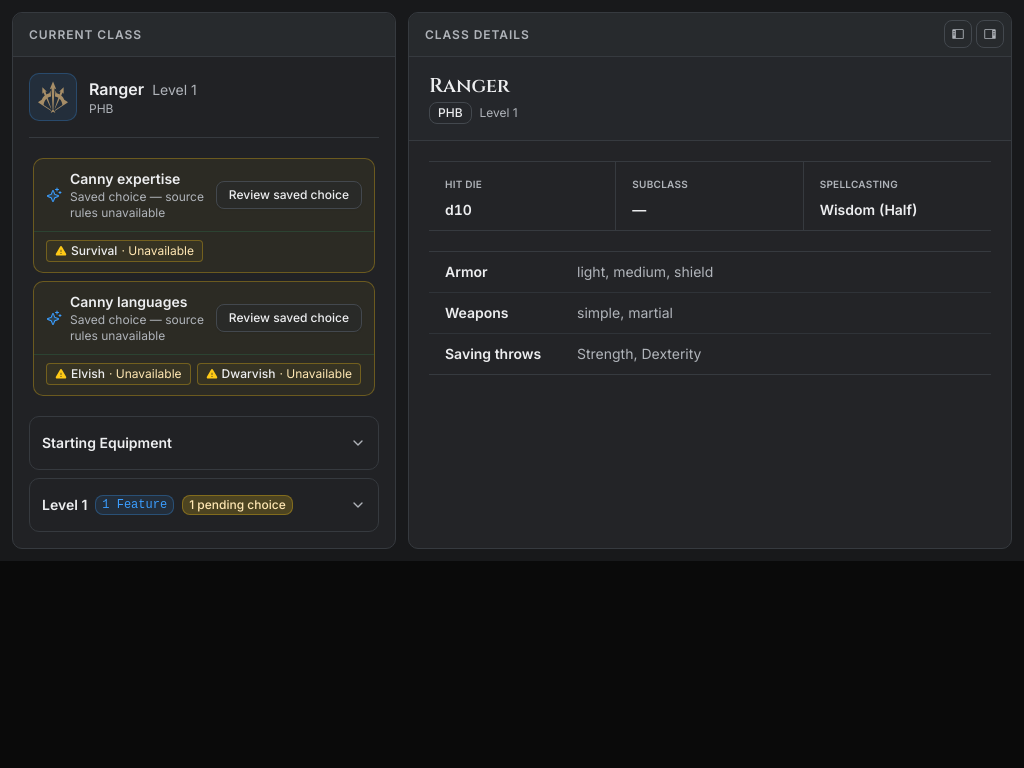
saved source-unavailable choices retain removal-only recovery and Clear retracts only its own domain
This screenshot has width=1024, height=768.
Step 1. Click the button "Level 1 1 Feature 1 pending choice" → coordinates (204, 505), box [30,479,378,531]
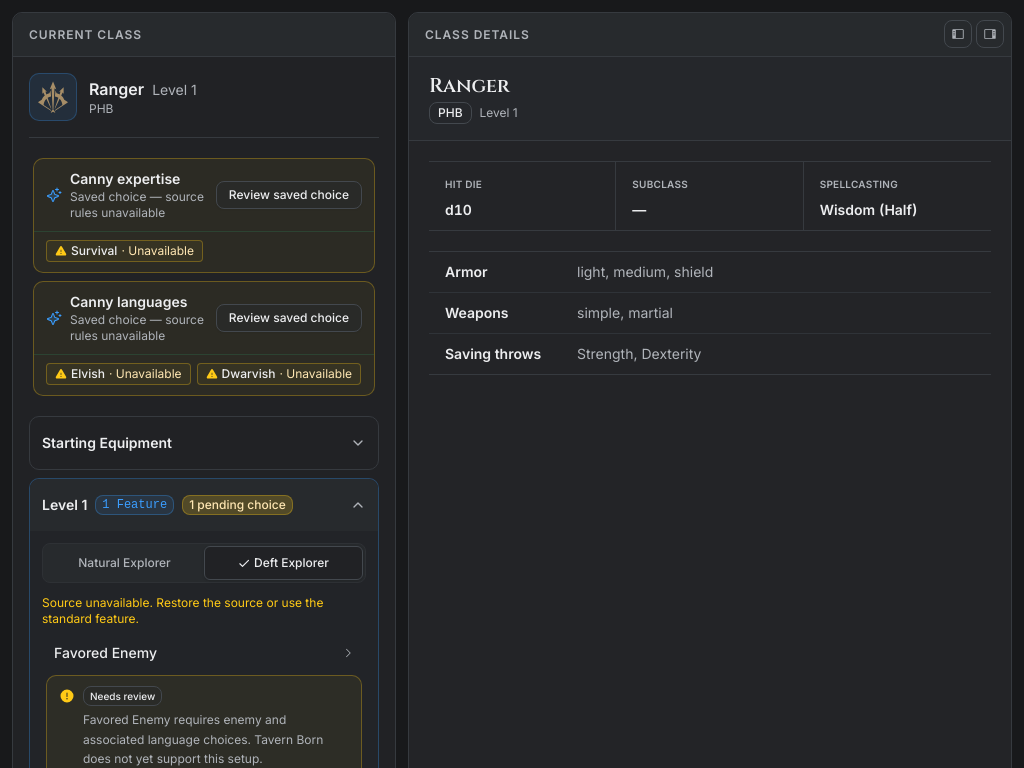
Step 2. Click the 1st button "Review saved choice" → coordinates (289, 195), box [216,181,362,209]
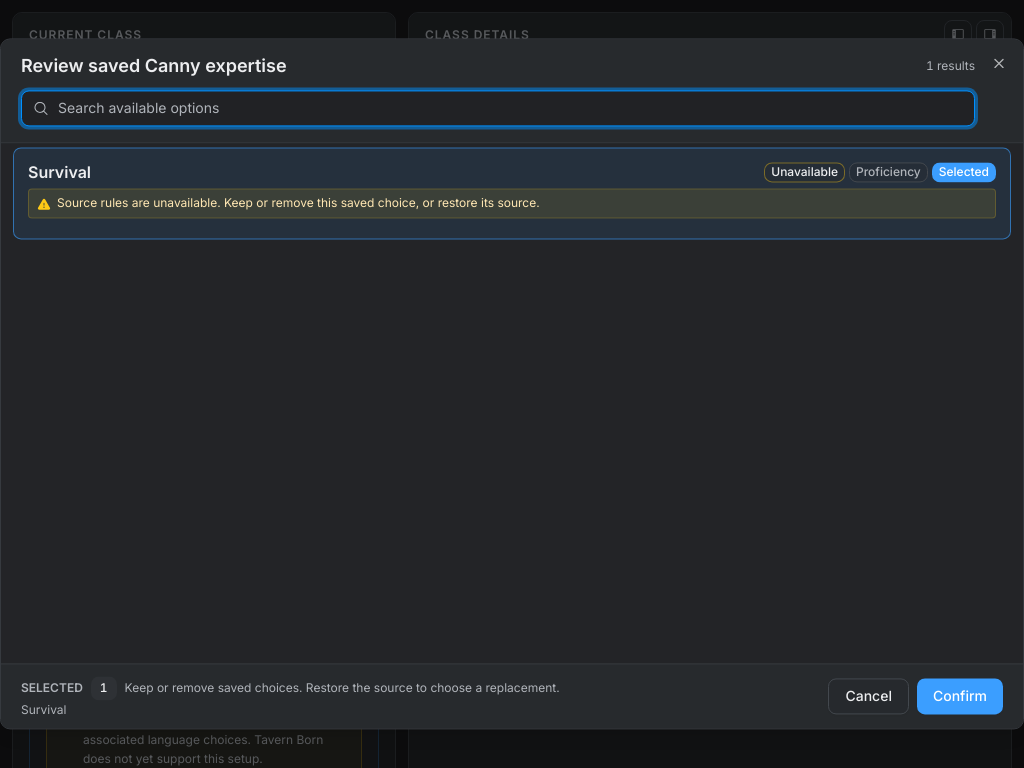
Result: the dialog is shown
Step 3. Type "Survival" into the field with placeholder "Search available options" → coordinates (498, 108), box [21,90,975,126]
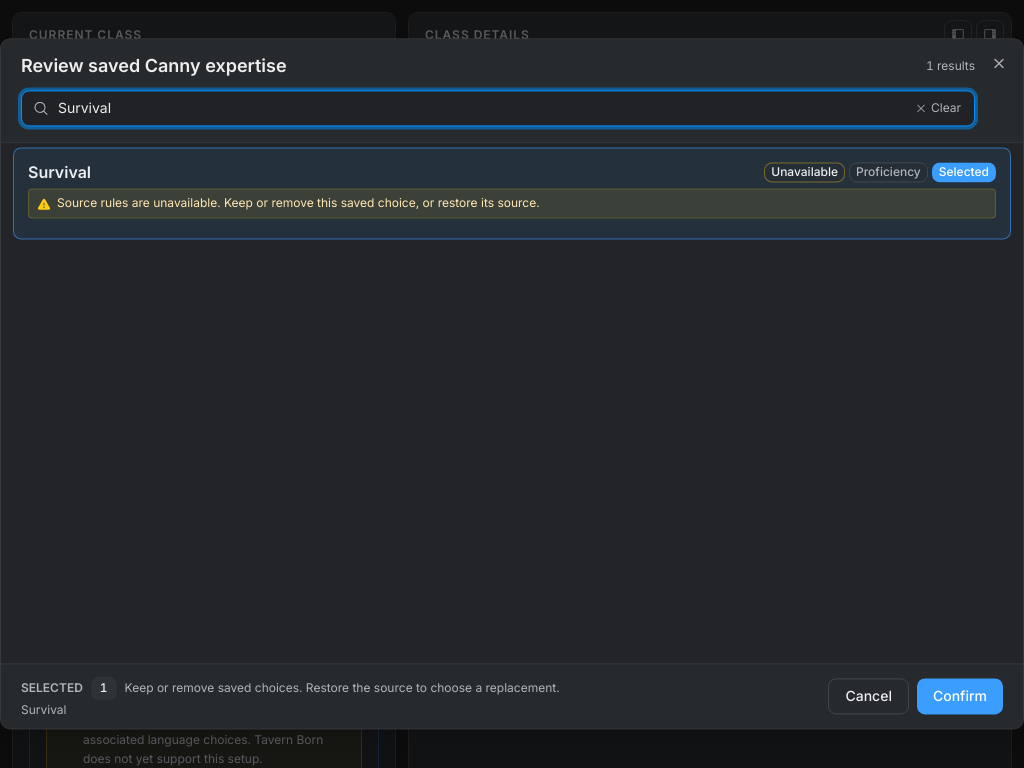
Step 4. Click the button that starts with "Survival" → coordinates (512, 193), box [13,147,1011,239]
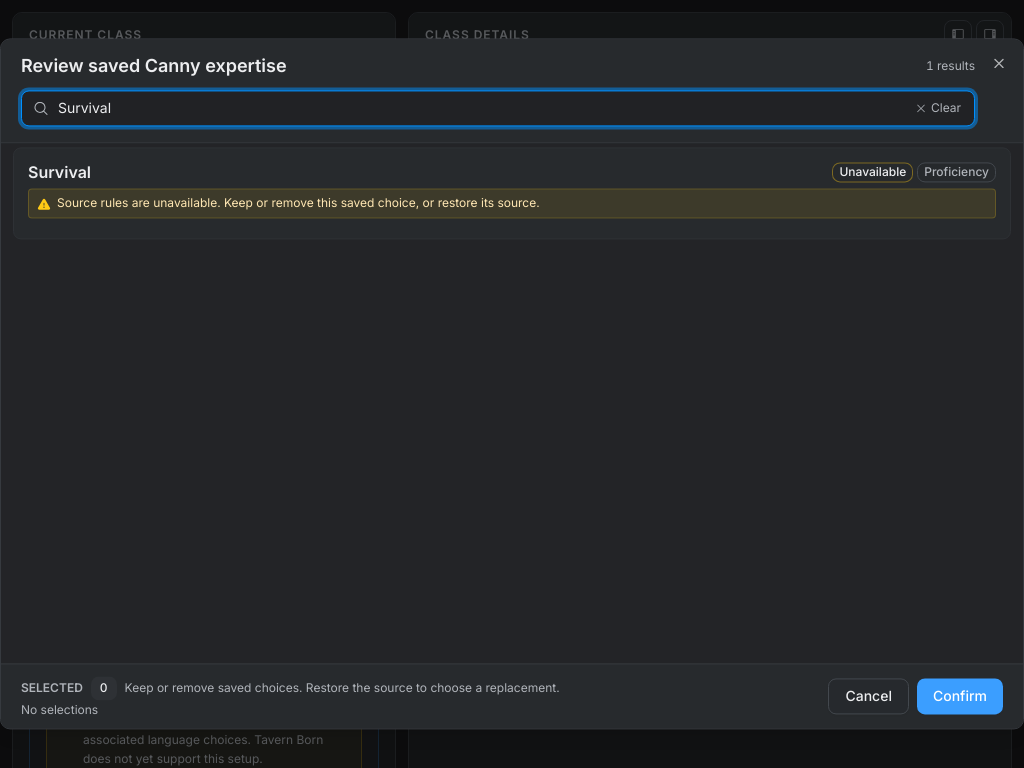
Result: the button "Confirm" is enabled
Step 5. Click the button "Confirm" → coordinates (960, 697), box [917,679,1003,715]
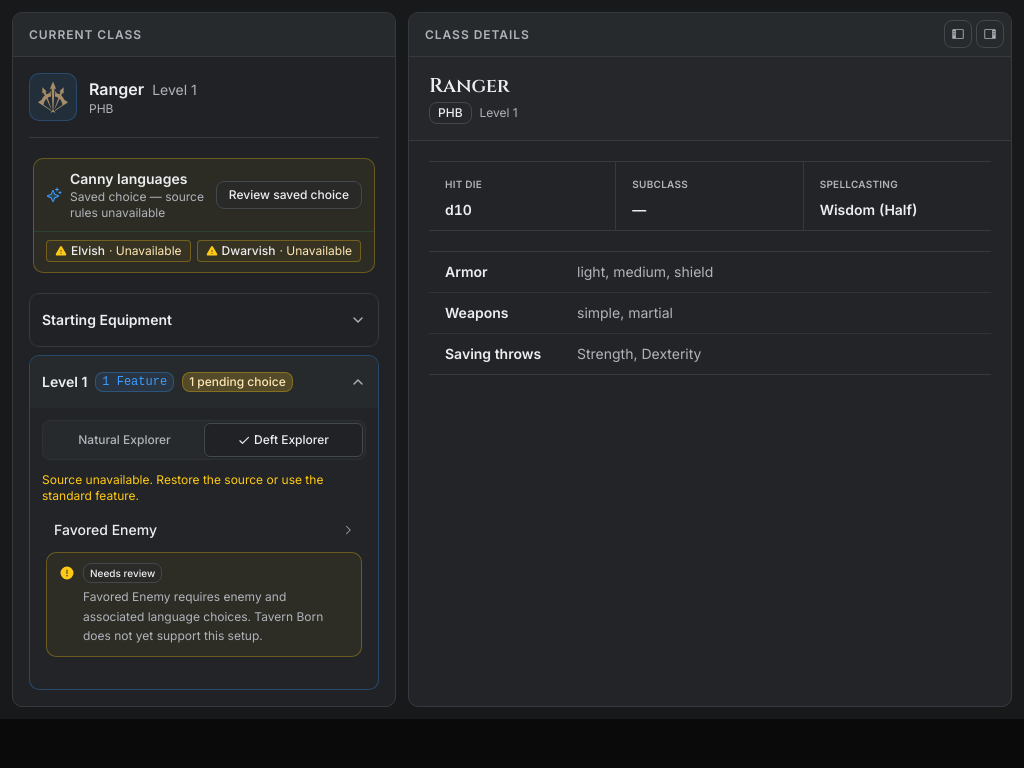
Result: the dialog is gone
